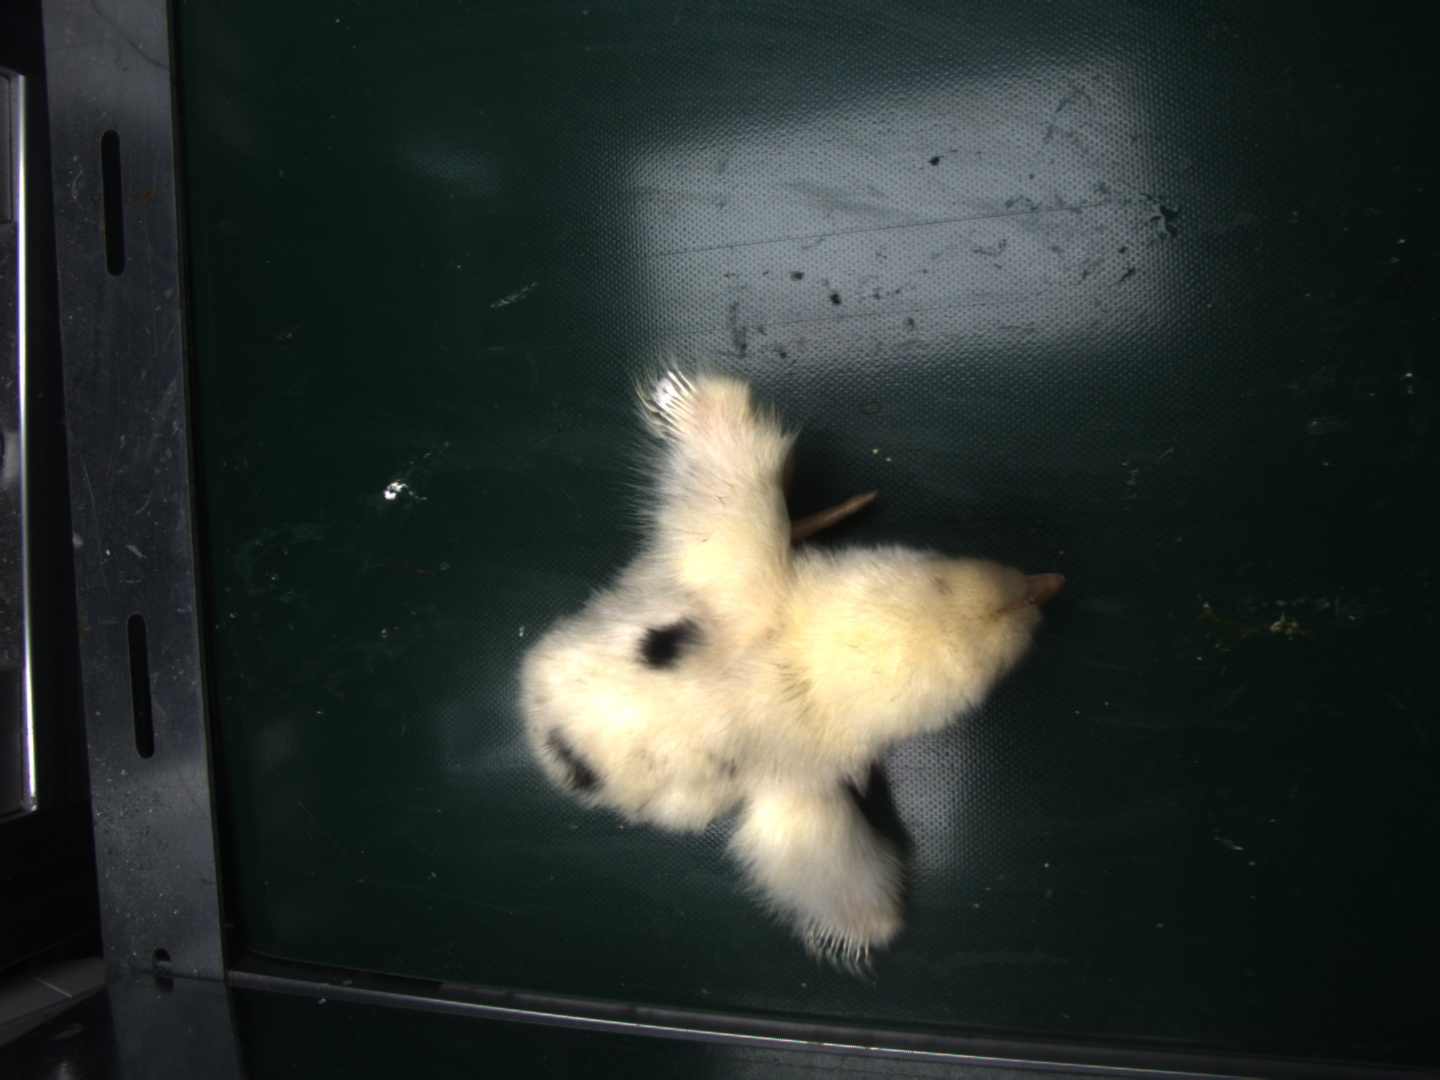male: (806, 913, 874, 961)
